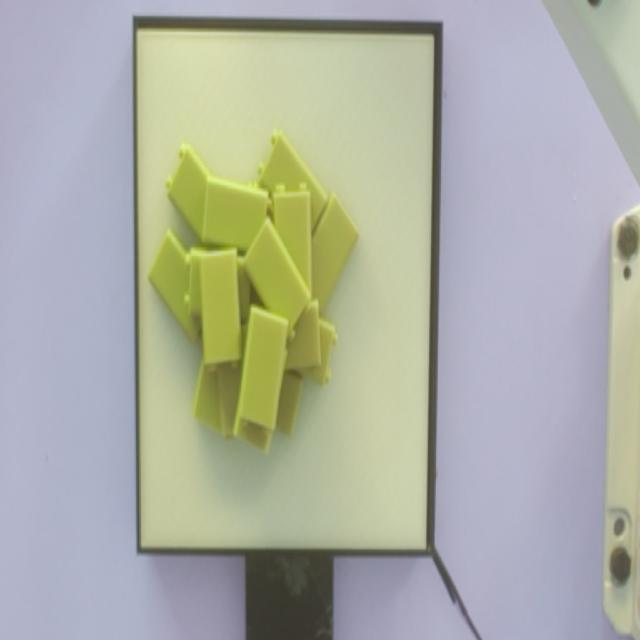bateria: (236, 304, 289, 437), (198, 249, 241, 373)
mesa: (134, 16, 442, 557)
